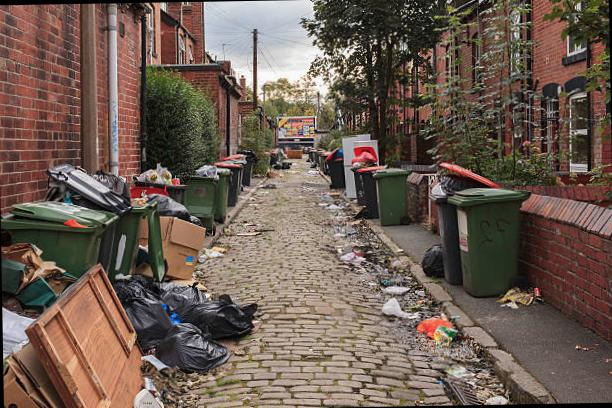trash: (0, 246, 164, 408), (123, 203, 210, 289), (0, 254, 68, 356), (376, 265, 437, 325), (352, 232, 413, 291), (416, 304, 477, 358), (122, 288, 170, 352), (162, 324, 222, 372), (488, 282, 555, 323), (422, 164, 478, 203), (200, 296, 244, 344), (350, 226, 391, 263), (415, 237, 444, 283), (172, 282, 205, 321), (38, 174, 78, 205), (148, 200, 192, 223), (330, 193, 362, 224), (48, 214, 93, 235), (339, 151, 381, 172), (312, 166, 338, 192), (218, 225, 244, 250), (101, 170, 121, 194), (320, 152, 354, 166), (253, 176, 273, 199), (200, 247, 220, 268), (194, 166, 222, 181), (269, 154, 287, 174), (216, 155, 238, 171), (130, 193, 148, 212), (150, 170, 176, 182), (229, 150, 251, 164)
trash_can_overflow: (17, 171, 174, 383), (100, 156, 207, 305), (454, 180, 528, 300), (430, 152, 477, 285), (336, 163, 406, 235), (180, 156, 242, 234), (220, 144, 260, 196), (314, 150, 353, 194), (262, 145, 289, 178)
